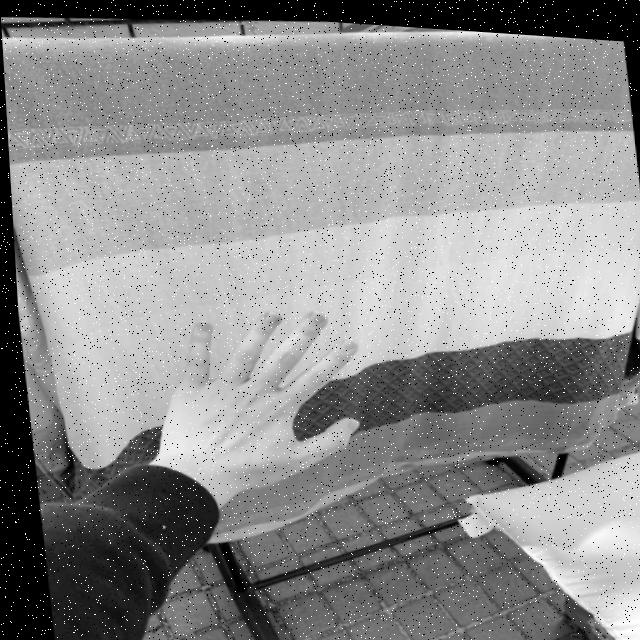hand: (139, 290, 372, 497)
